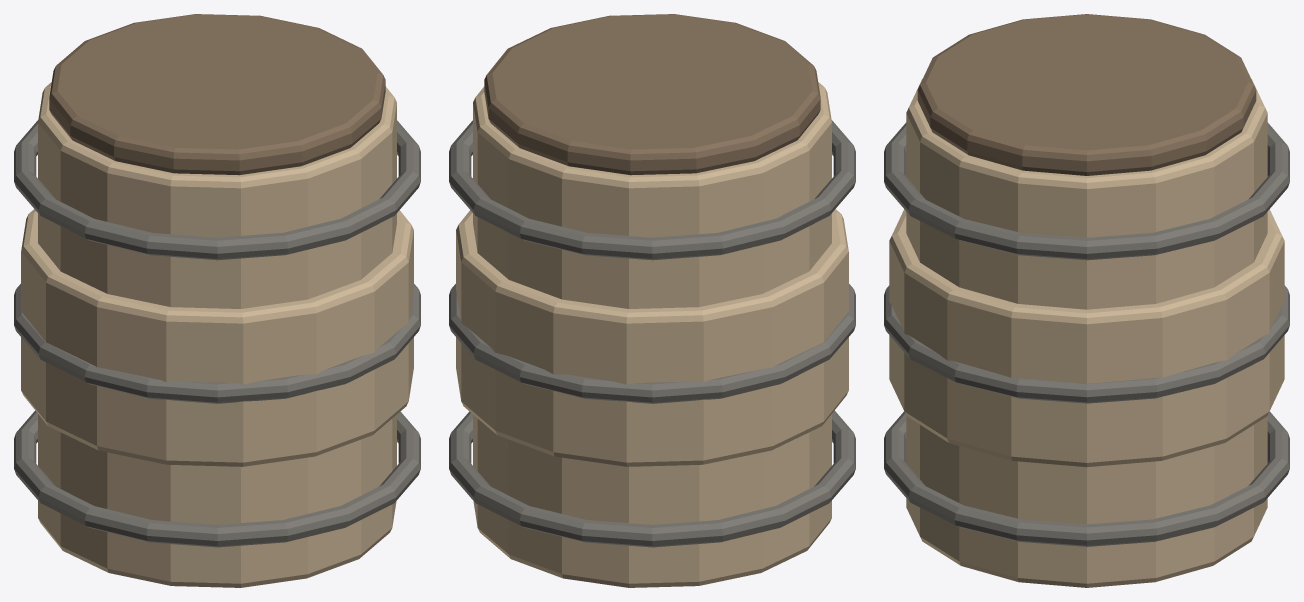
Rendered from barrel.glb.
The picture shows the model from 3 angles, left to right: view 1: azimuth 30°, elevation 25°; view 2: azimuth 150°, elevation 25°; view 3: azimuth 270°, elevation 25°; orthographic projection.
Parts seen in each view (by area): view 1: body; view 2: body; view 3: body.
Boxes of the visible parts, left/top/right/bottom form: body: left=14, top=14, right=420, bottom=587; body: left=449, top=14, right=855, bottom=587; body: left=884, top=14, right=1289, bottom=587.
Size of the model in its own units: 0.73 by 0.845 by 0.7189.
